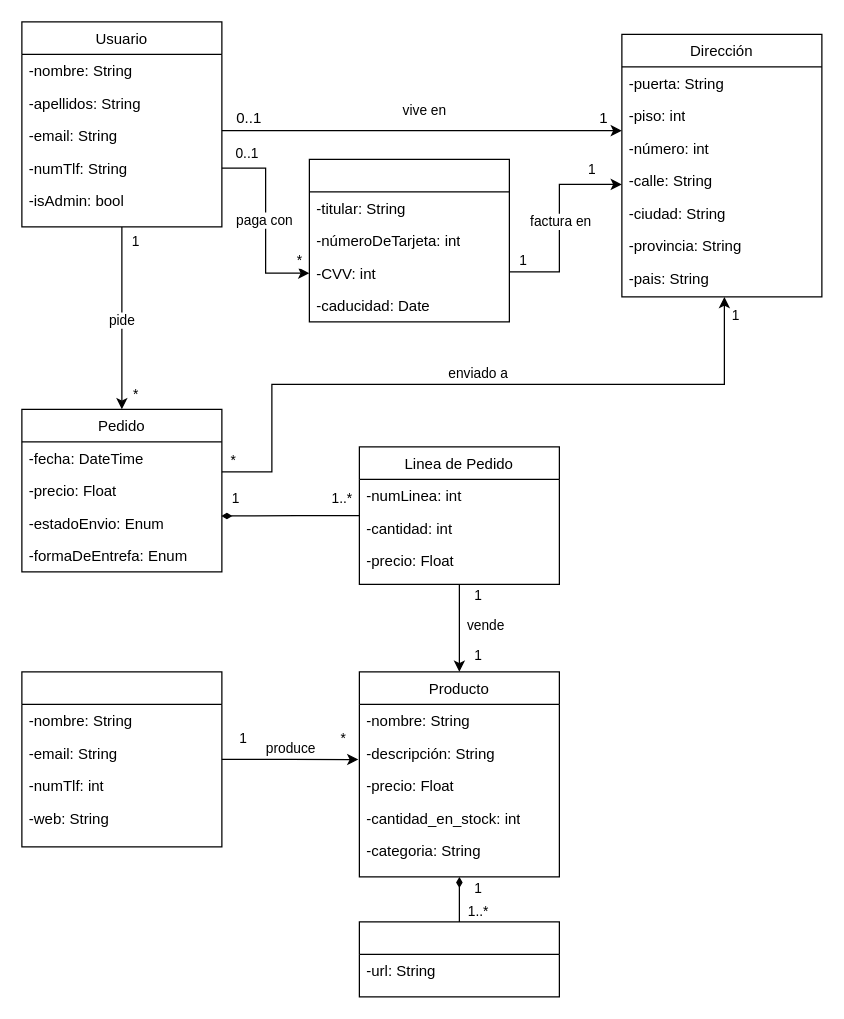
Some shapes in this 844 by 1019 pixel diagram are drawn without their labels. Each missing label, with the box of its shape:
Fabricante: (21, 671, 222, 847)
Foto: (358, 921, 559, 997)
Método de pago: (308, 158, 509, 322)
